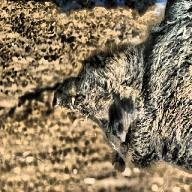boar: (52, 1, 191, 180)
